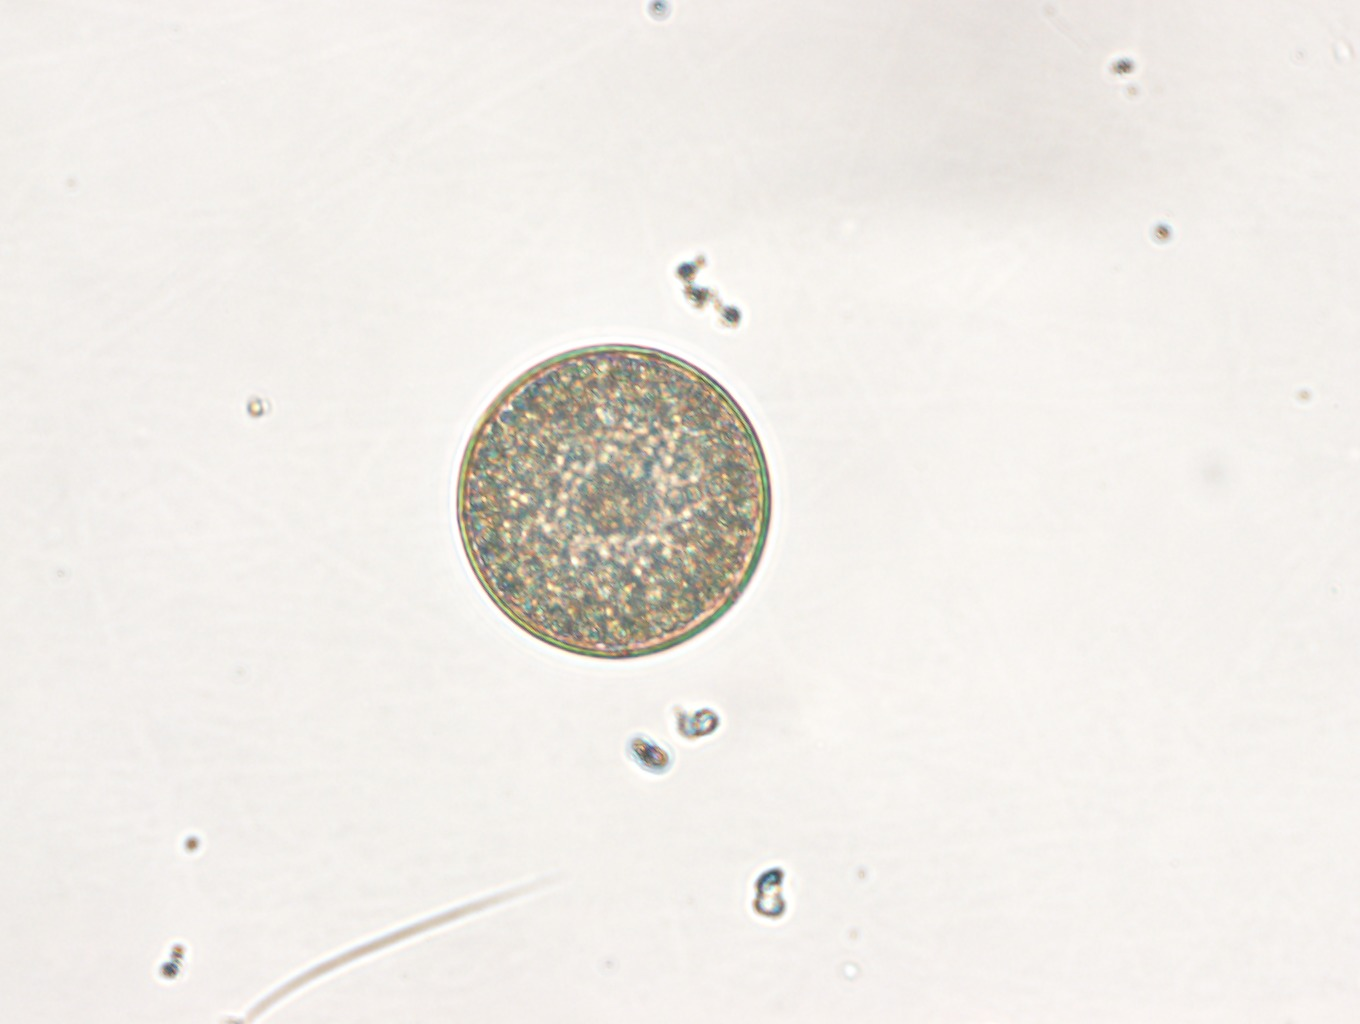coscinodiscus: (450, 335, 775, 660)
